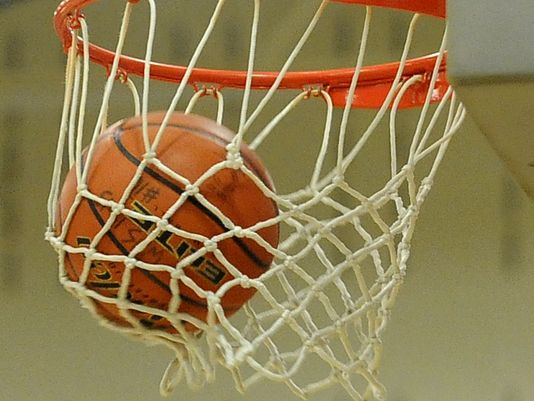basketball: (57, 110, 284, 334)
